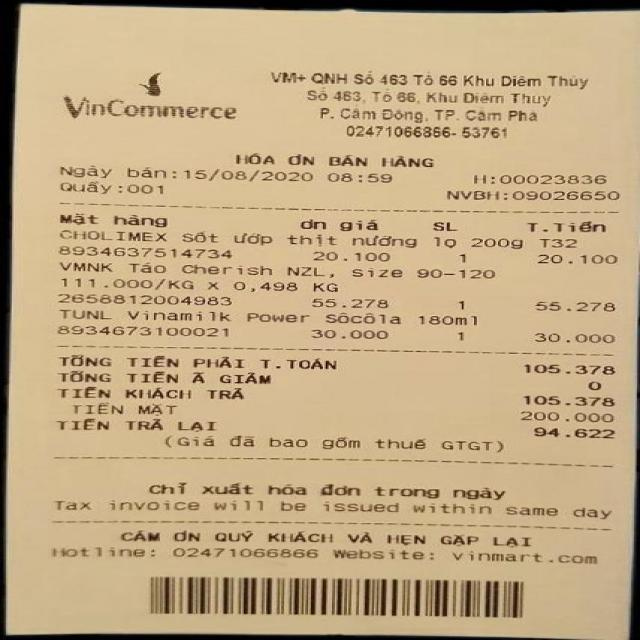Date: (182, 164, 318, 186)
Store_Name: (55, 63, 244, 132)
amount_number: (515, 354, 623, 378)
label_total: (47, 352, 354, 374)
